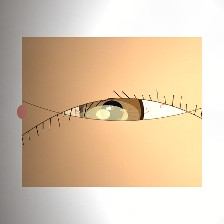corneal_ulcer: (73, 88, 141, 143)
